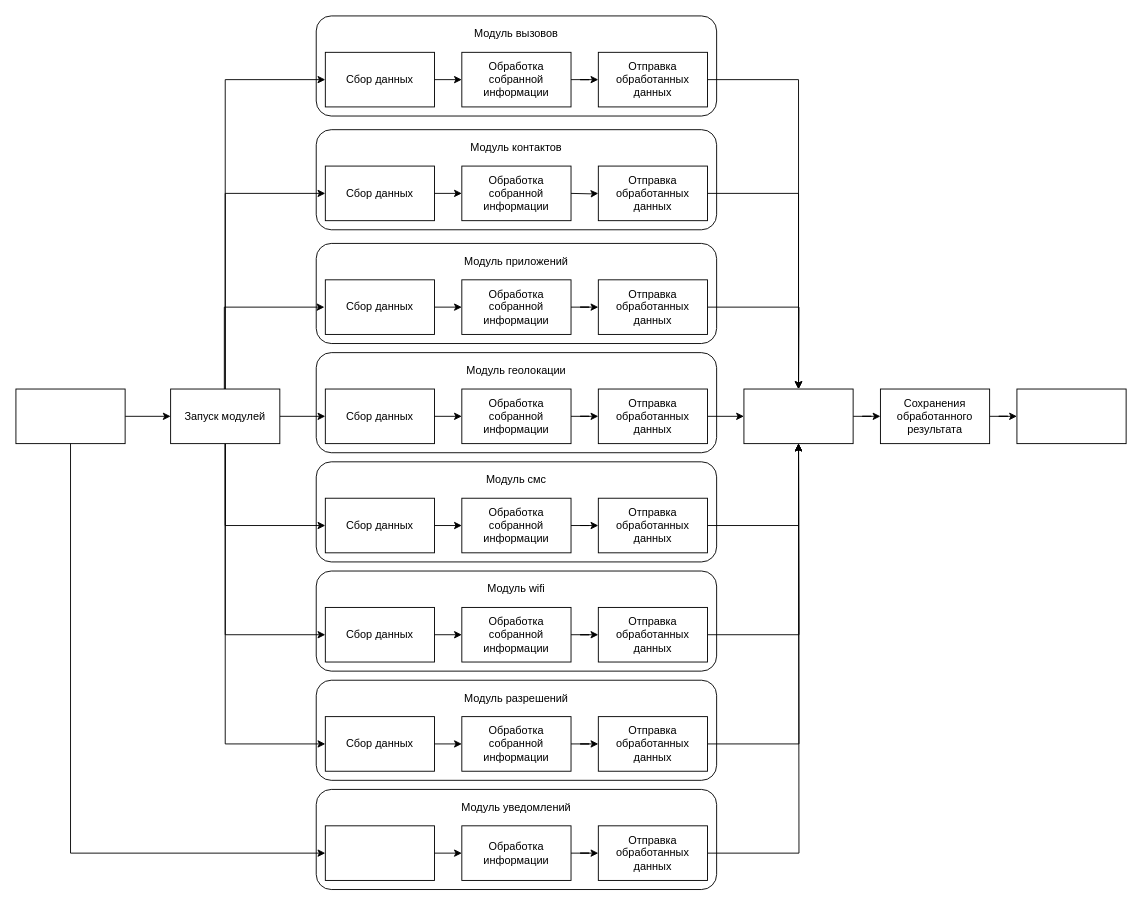
This 1142x905 diagram has some shape labels left out. Here are the shapes that lost their labels. From the top down, the centre of each, then its label:
At point (70, 416): "Запуск фонового процесса на мобильном устройстве".
At point (798, 416): "Серверная обработка данных".
At point (1071, 416): "Запрос обработанных данных".
At point (379, 852): "Появление уведомления".
